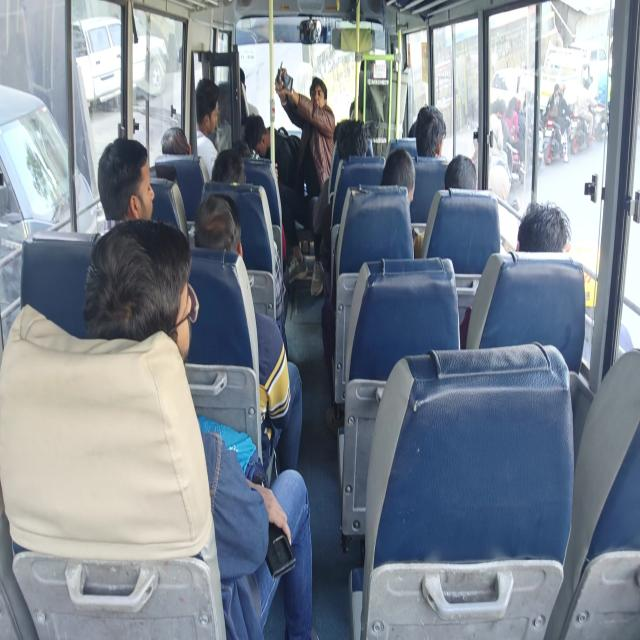person: (83, 216, 317, 639), (96, 136, 303, 476), (193, 193, 303, 473), (321, 147, 416, 432), (515, 200, 634, 354), (459, 200, 572, 348), (274, 67, 336, 295), (244, 114, 308, 282), (310, 119, 369, 296), (413, 154, 477, 257), (97, 136, 155, 223), (379, 147, 424, 258), (516, 200, 571, 252), (194, 77, 220, 180), (380, 147, 415, 205), (415, 104, 446, 158), (211, 148, 246, 185), (444, 154, 476, 190), (489, 97, 505, 154), (160, 126, 190, 155)
